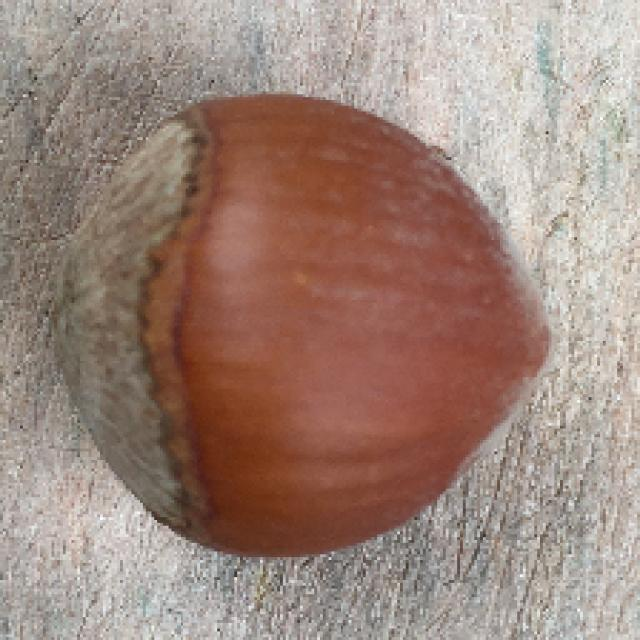hazelnut: (37, 90, 566, 528)
